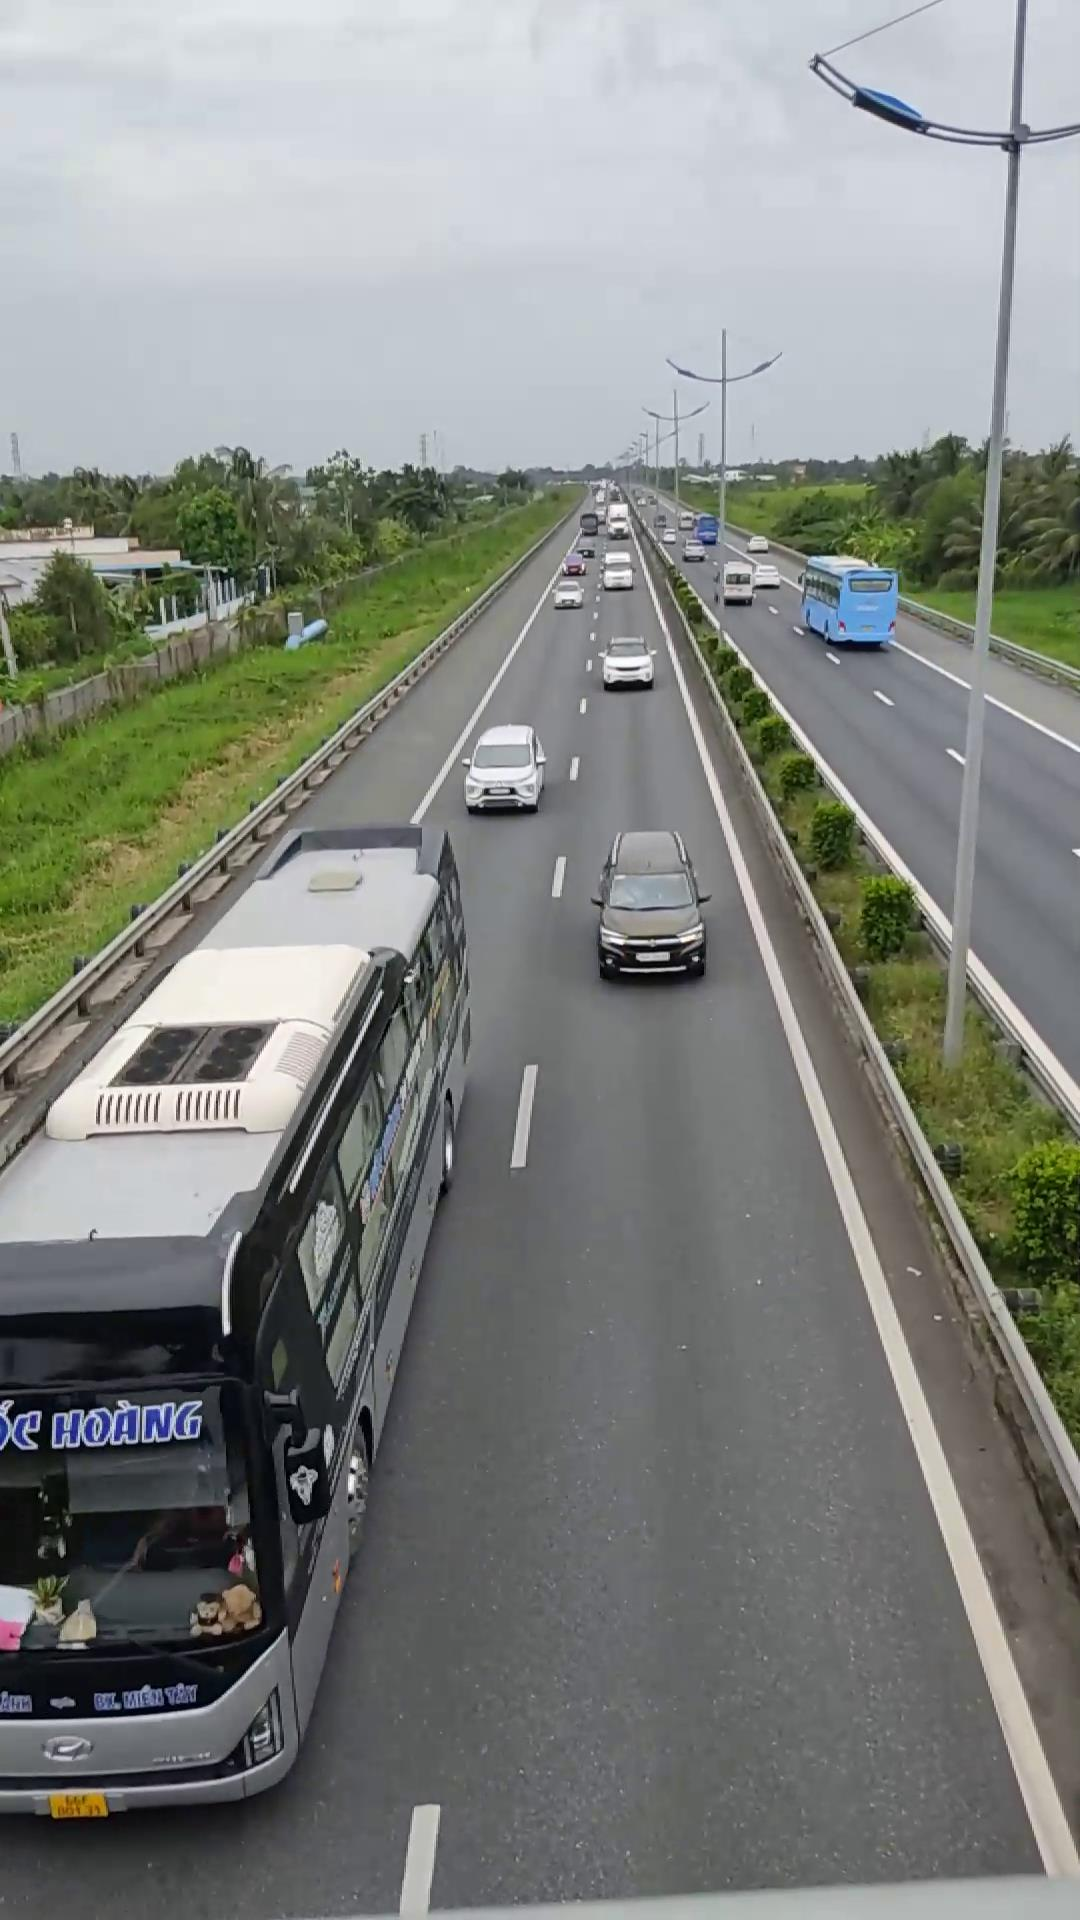bus: (1, 818, 475, 1819)
car: (591, 828, 708, 980), (460, 723, 545, 812)
